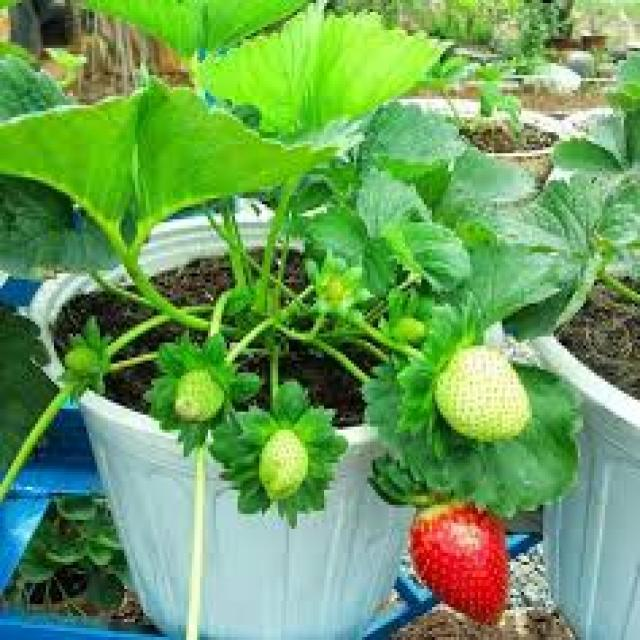Fruta sana: (398, 502, 530, 629)
